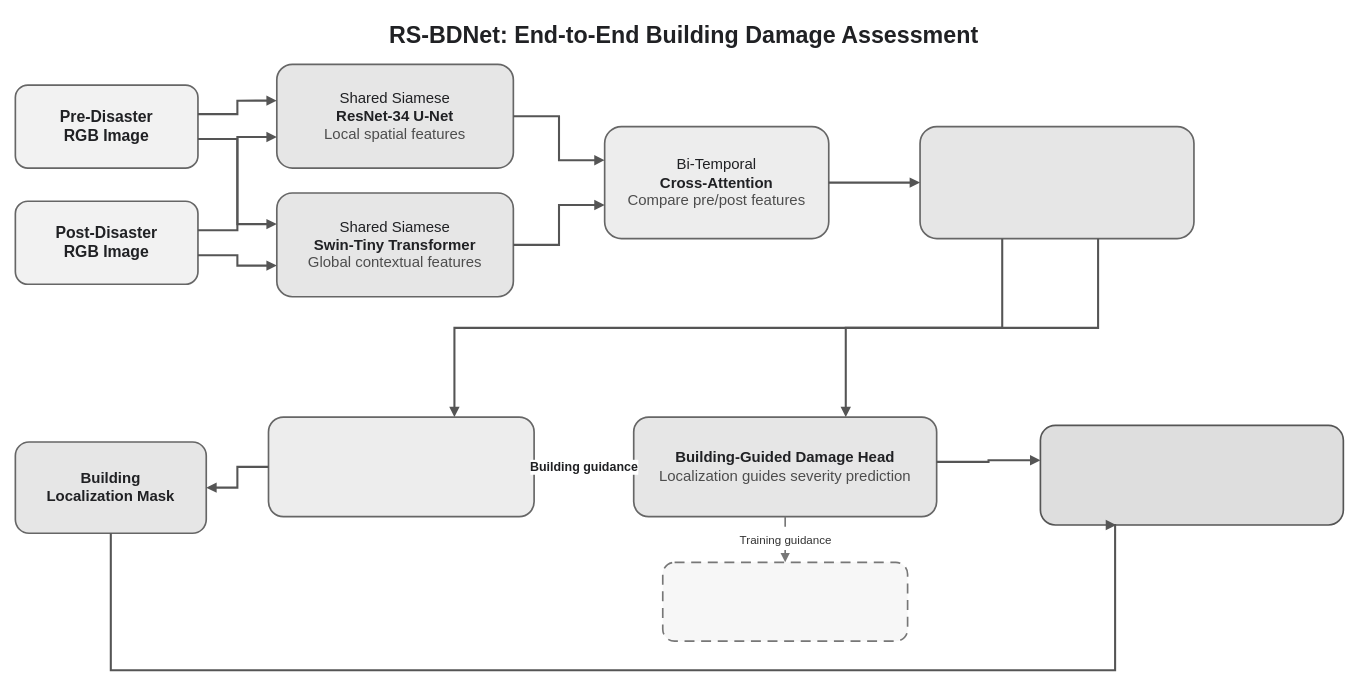
The diagram is 1358 pixels wide and 692 high, and some of its shapes have lost their labels. Each missing label, with the box of its shape:
Auxiliary Ordinal Learning Ordered severity supervision (training only): (662, 561, 908, 642)
Building Localization Head Predicts the building mask: (267, 416, 535, 517)
CNN–Transformer Feature Fusion Combined local and global change features: (919, 125, 1194, 239)
Final Building Damage Map No Damage | Minor | Major | Destroyed: (1039, 424, 1344, 525)
